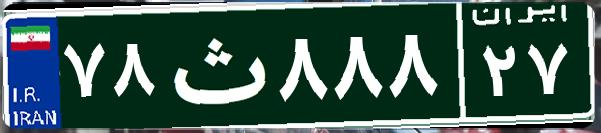2: (475, 38, 525, 113)
7: (57, 26, 110, 107), (525, 38, 570, 115)
8: (385, 28, 445, 110), (273, 28, 330, 110), (330, 28, 385, 110), (110, 28, 158, 105)
ث: (158, 15, 273, 115)
